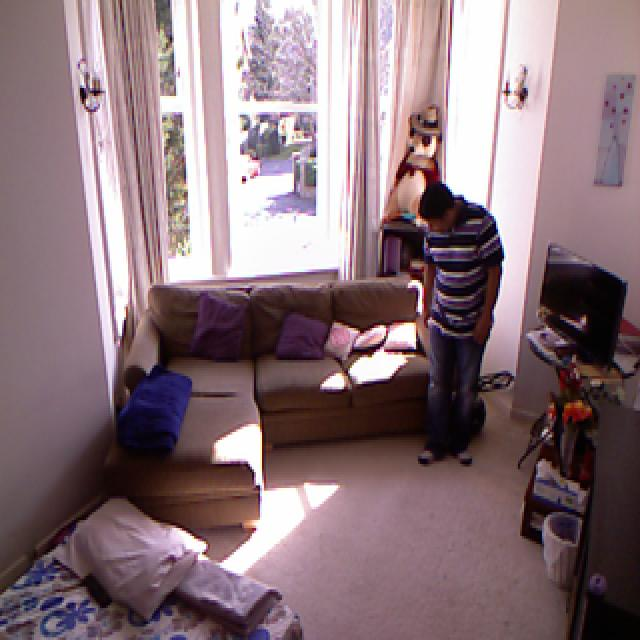standing: (397, 182, 503, 460)
